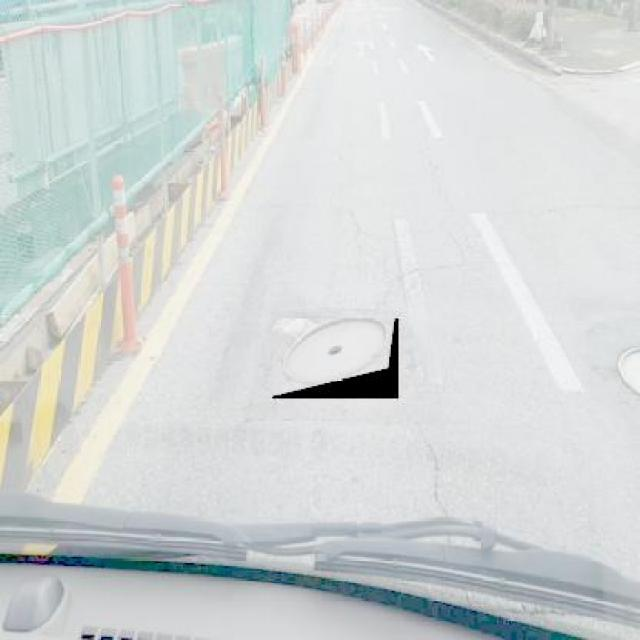Manhole: (273, 318, 399, 398), (617, 338, 640, 406)
